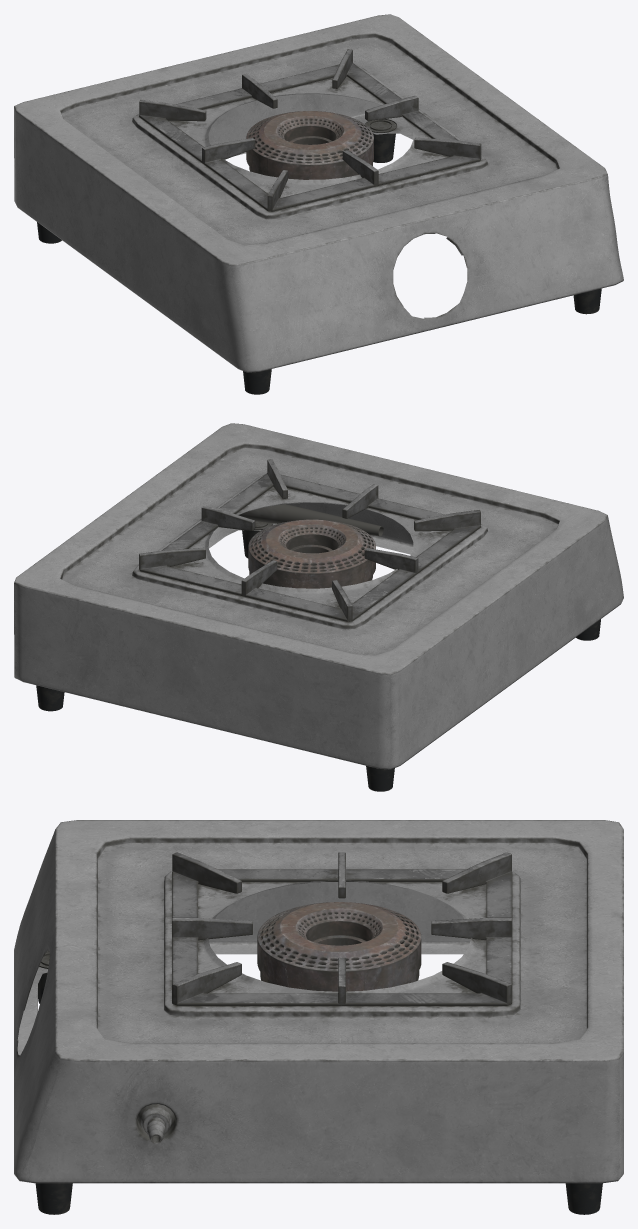
The model's file is Stove.fbx.
The picture shows the model from 3 angles, top to bottom: view 1: azimuth 30°, elevation 25°; view 2: azimuth 150°, elevation 25°; view 3: azimuth 270°, elevation 25°; orthographic projection. The views are drawn at different scales.
Visible parts, largest first — view 1: Gass_Stove; view 2: Gass_Stove; view 3: Gass_Stove.
Boxes of the visible parts, left/top/right/bottom form: Gass_Stove: left=14, top=14, right=623, bottom=394; Gass_Stove: left=14, top=423, right=623, bottom=791; Gass_Stove: left=14, top=820, right=623, bottom=1214.
Size of the model in its own units: 18.86 by 6.34 by 18.86.
